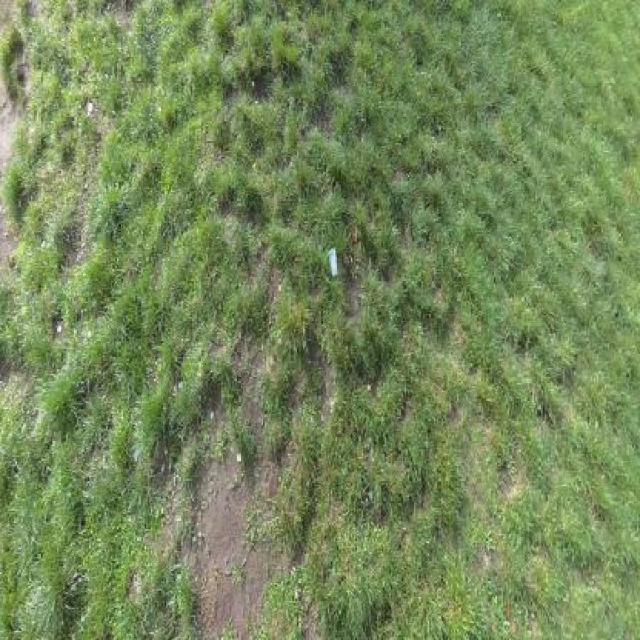Garbage: (327, 248, 338, 276)
